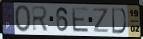6: (55, 7, 69, 33)
D: (111, 7, 128, 35)
E: (70, 6, 90, 34)
O: (14, 4, 32, 33)
R: (30, 5, 50, 33)
Z: (92, 8, 110, 34)
